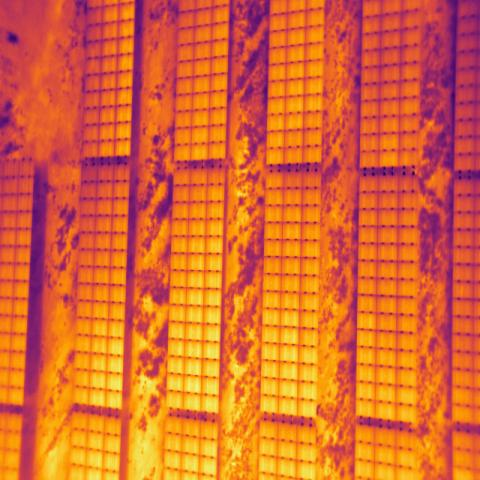fault: (379, 148, 399, 168)
